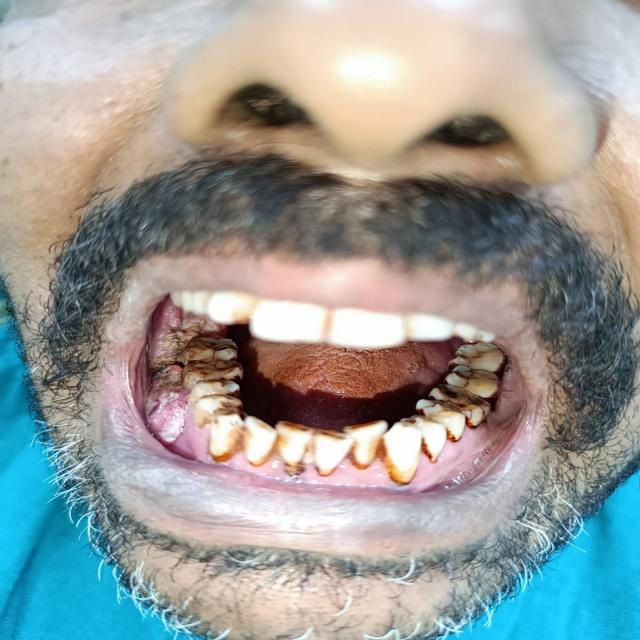cancer-detection: (140, 296, 222, 450)
processing_area: (126, 294, 456, 461)
